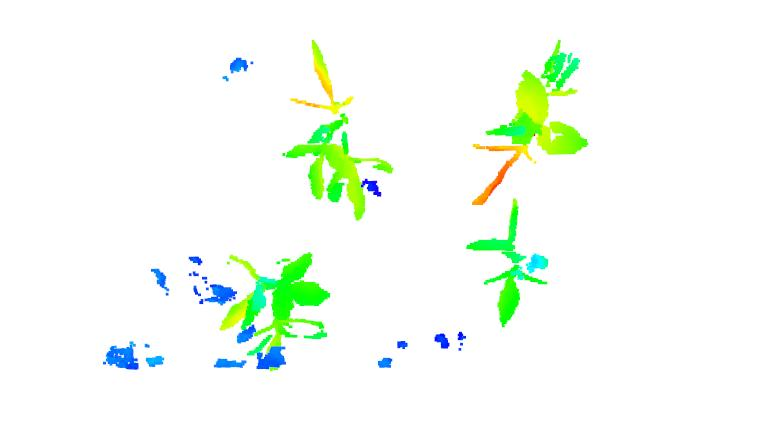mungbean: (467, 36, 591, 209), (280, 41, 396, 220), (216, 250, 335, 364), (463, 201, 553, 330)
